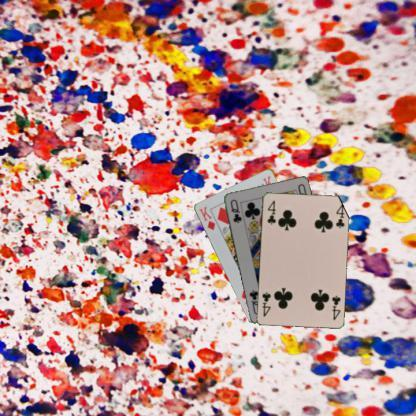4c: (328, 294, 342, 321), (264, 198, 276, 226)
Kd: (196, 203, 216, 231)
Qc: (228, 197, 242, 224)
